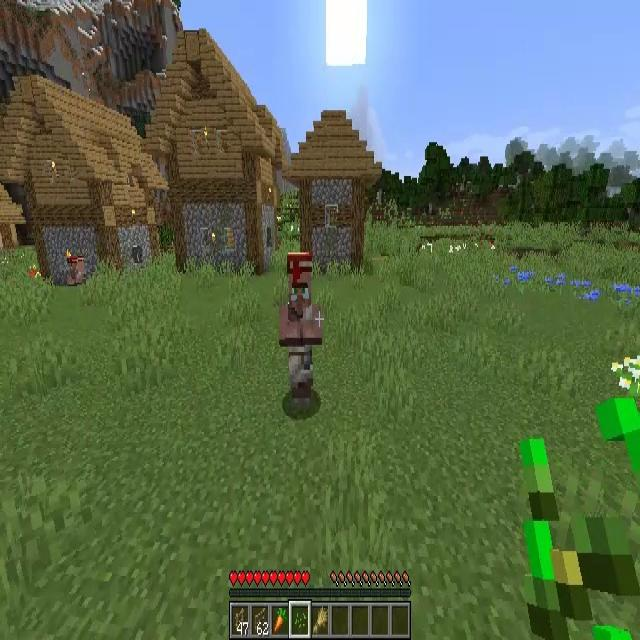people: (278, 253, 324, 402)
